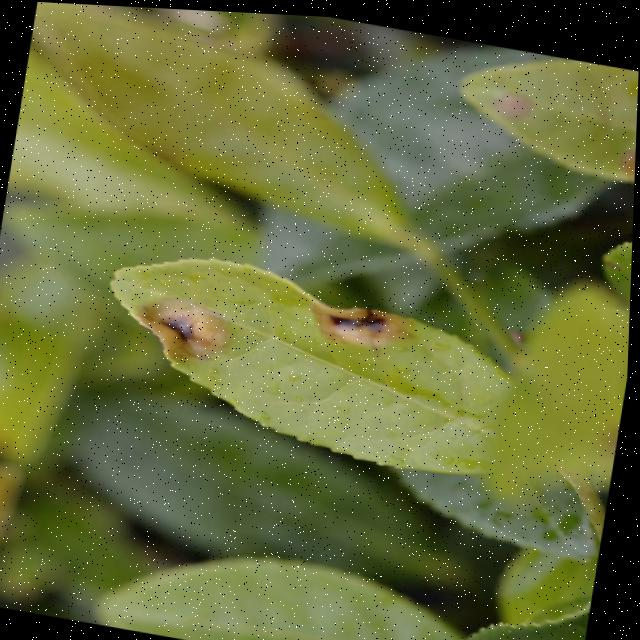Tea cake: (133, 285, 241, 360), (316, 283, 416, 349)
